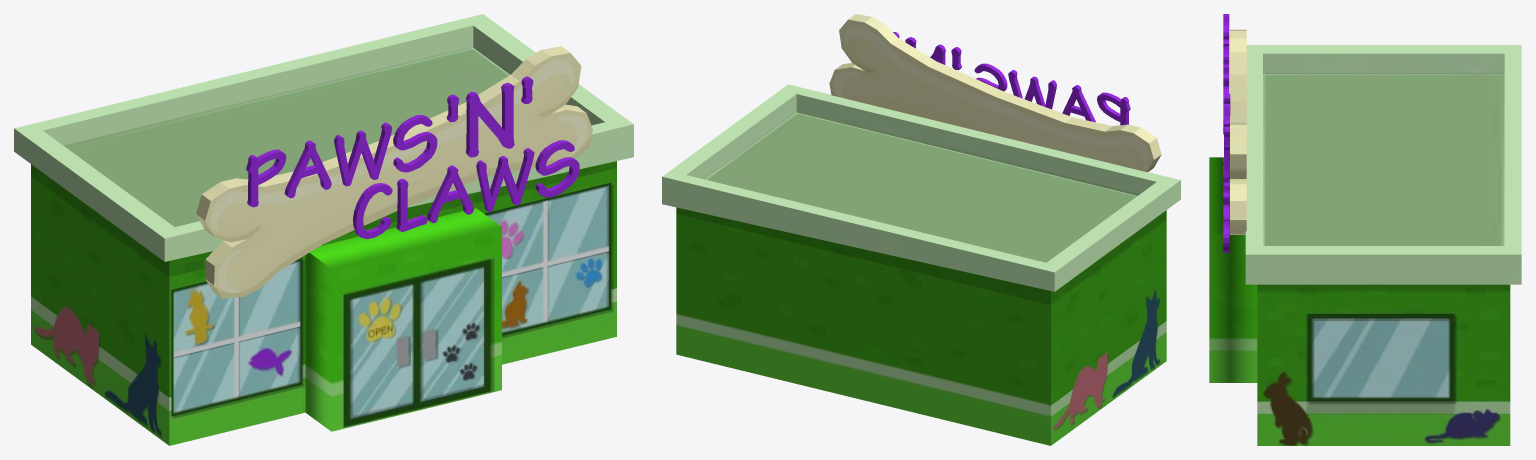
Rendered from city_paws_n_claws.glb.
3 renders of one model, left to right at view 1: azimuth 30°, elevation 25°; view 2: azimuth 150°, elevation 25°; view 3: azimuth 270°, elevation 25°, orthographic. The views are drawn at different scales.
Parts seen in each view (by area): view 1: polySurface491; view 2: polySurface491; view 3: polySurface491.
Part boxes in pixels (x1,y1,x2,y2): polySurface491: (14, 14, 633, 445); polySurface491: (662, 14, 1180, 445); polySurface491: (1209, 14, 1521, 445).
Bounding box in the file's own units: 8.43 × 5.34 × 5.31.
2 materials, 2 textured.
